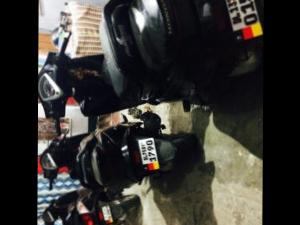plate: (136, 125, 165, 174)
